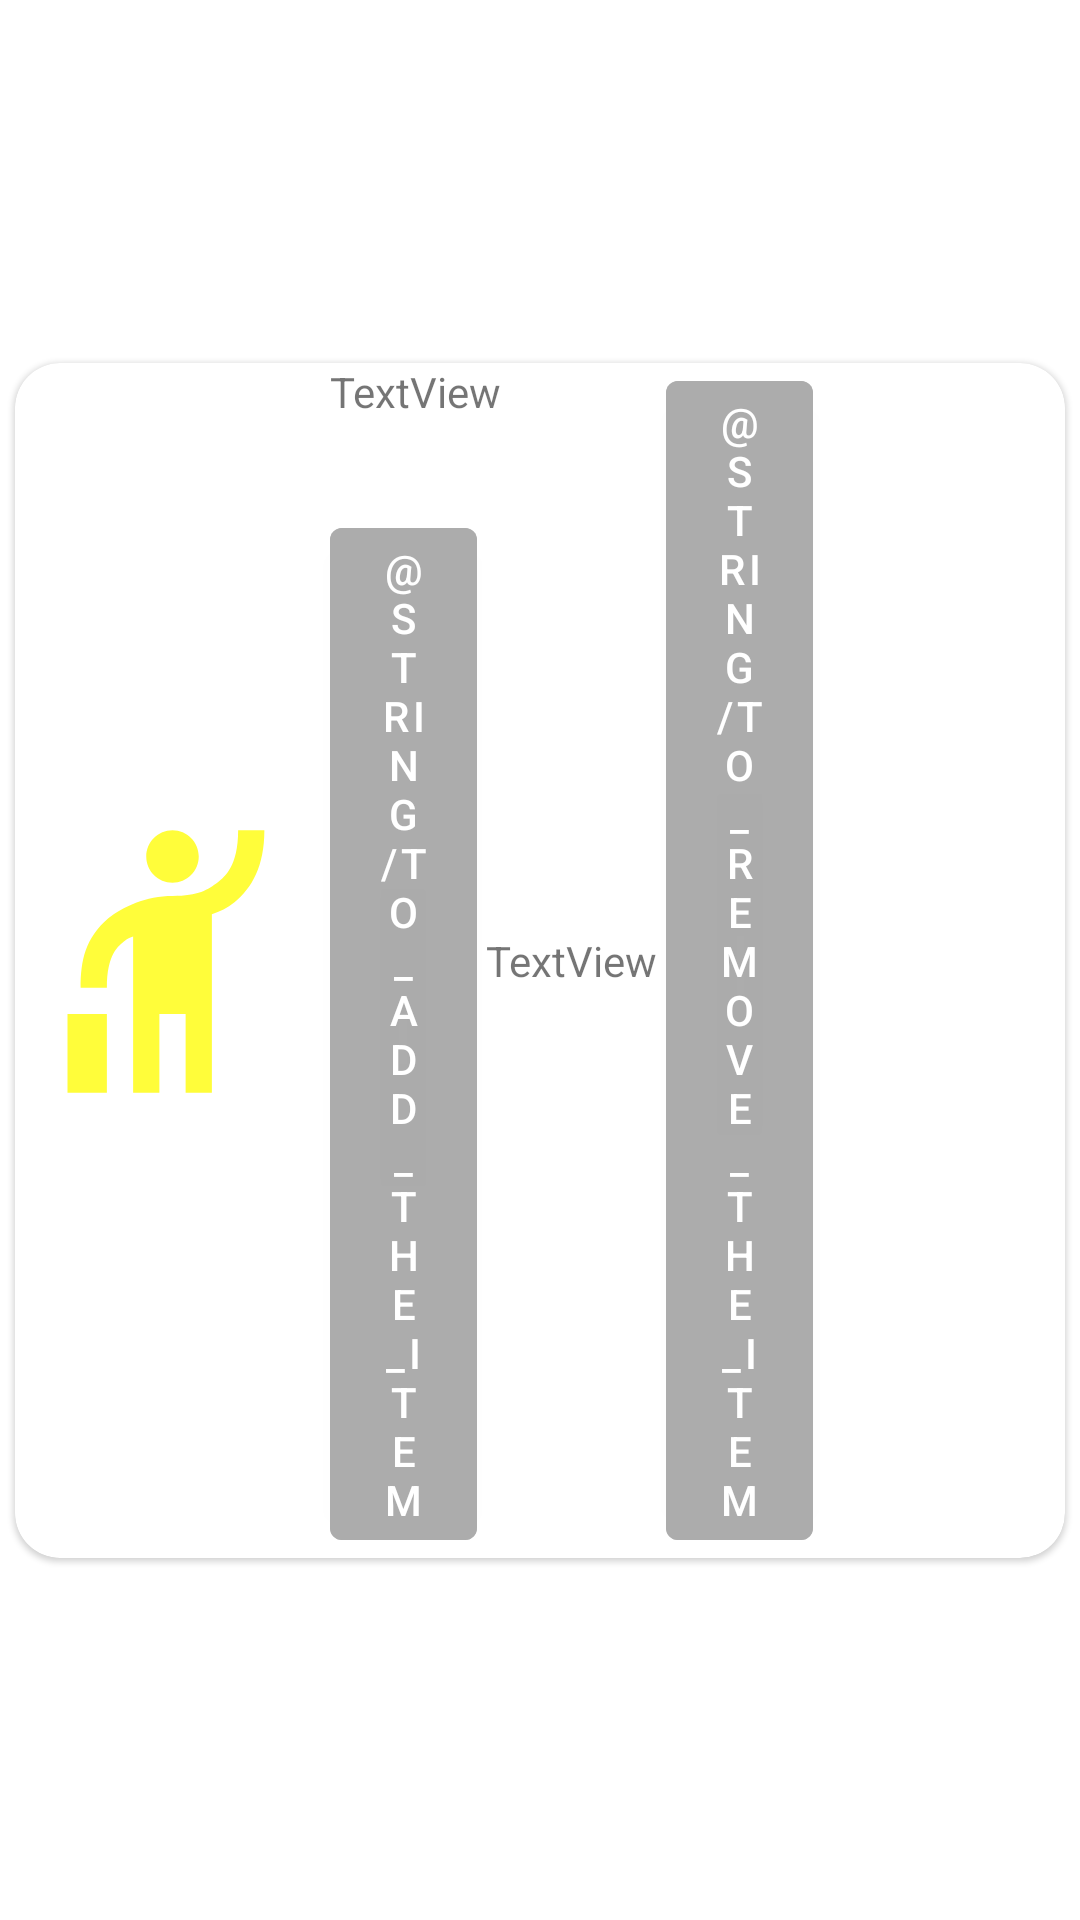

Icon bounding boxes for this 1080px x 1920px phone screenshot, format (x1, y1, x2, y2):
hail: (67, 830, 265, 1093)
